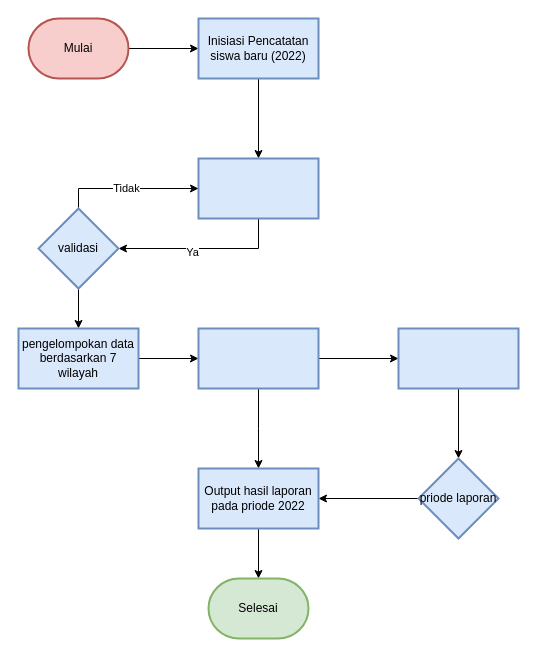
Image size: 536x656. Some labels were removed from this diagram. The shapes that lost their labels are listed below. From the top down, each one's centre as x and y in pixels, then its label:
At pixel 258 188: "Input data dari 7 wiliyah".
At pixel 258 358: "hasil pencatatan".
At pixel 458 358: "Database Siswa".
